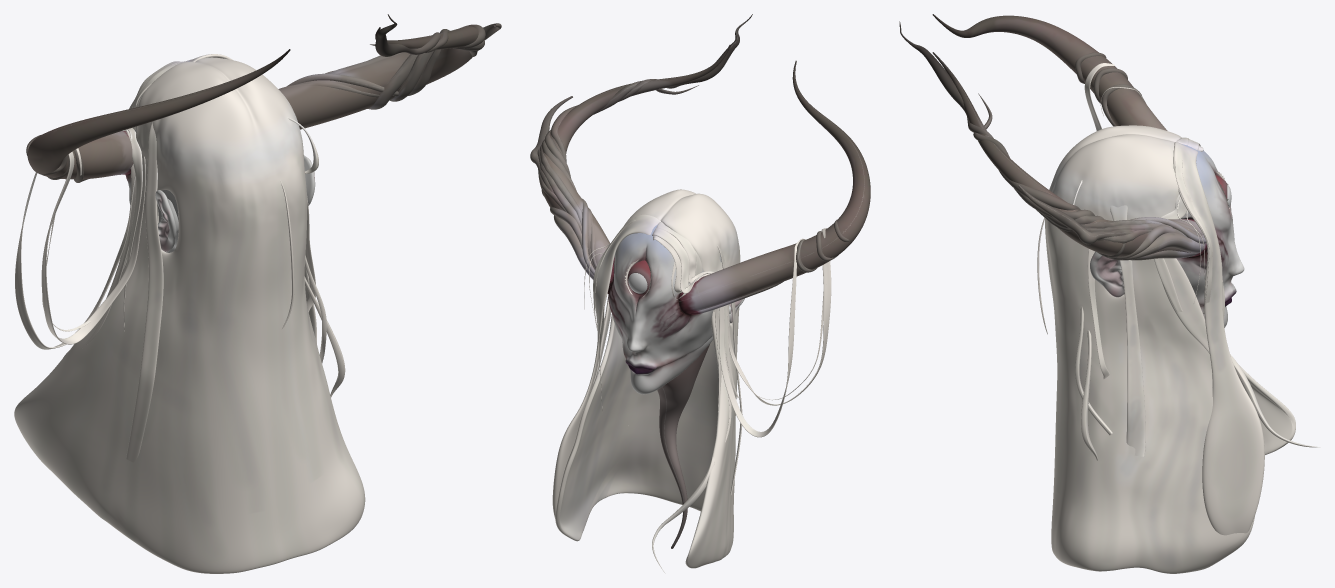
File: monsterface.fbx
3 views of the same model, side by side, from view 1: azimuth 30°, elevation 25°; view 2: azimuth 150°, elevation 25°; view 3: azimuth 270°, elevation 25° (orthographic). The views are drawn at different scales.
Visible parts, largest first — view 1: Hair&eyelids, Head&horns; view 2: Hair&eyelids, Head&horns; view 3: Hair&eyelids, Head&horns.
Boxes of the visible parts, box(x1,y1,x2,y2) form: Hair&eyelids: box(14, 54, 365, 573); Head&horns: box(26, 14, 501, 252); Hair&eyelids: box(552, 189, 831, 573); Head&horns: box(530, 14, 870, 548); Hair&eyelids: box(1037, 63, 1320, 573); Head&horns: box(899, 14, 1244, 327).
Bounding box in the file's own units: 59.53 × 78.76 × 56.34.
